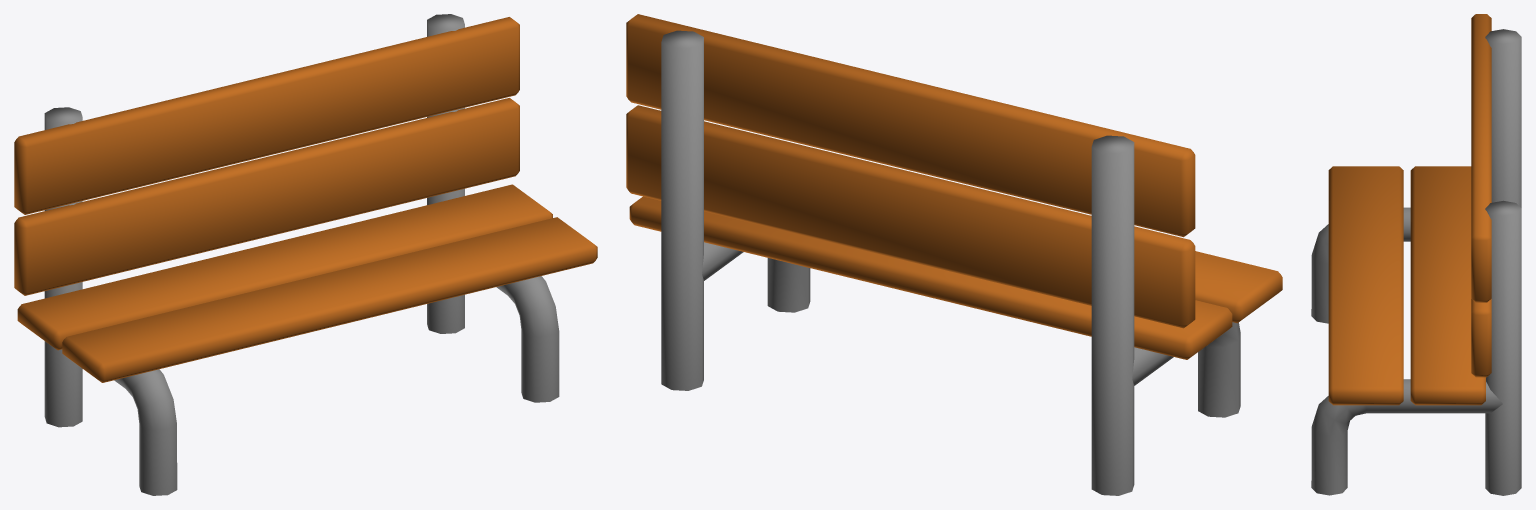
File: bench.glb
3 renders of one model, left to right at view 1: azimuth 30°, elevation 25°; view 2: azimuth 150°, elevation 25°; view 3: azimuth 270°, elevation 25°, orthographic. The views are drawn at different scales.
Parts seen in each view (by area): view 1: bench; view 2: bench; view 3: bench.
Boxes of the visible parts, <box> form: bench: <box>14,14,597,495</box>; bench: <box>626,14,1282,495</box>; bench: <box>1311,14,1521,495</box>.
Bounding box in the file's own units: 1.28 × 0.7422 × 0.5047.
